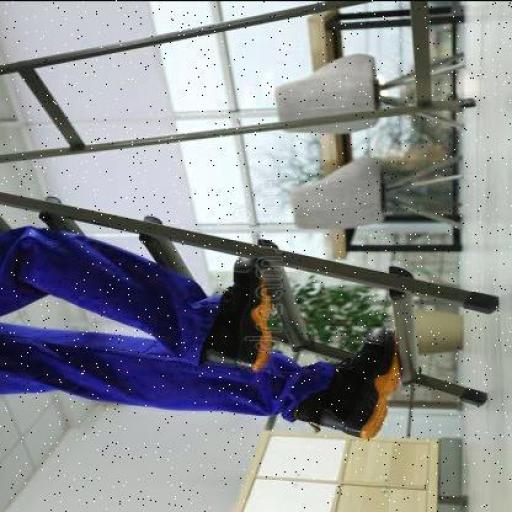safety_shoe: (308, 330, 404, 434), (201, 253, 268, 371)
